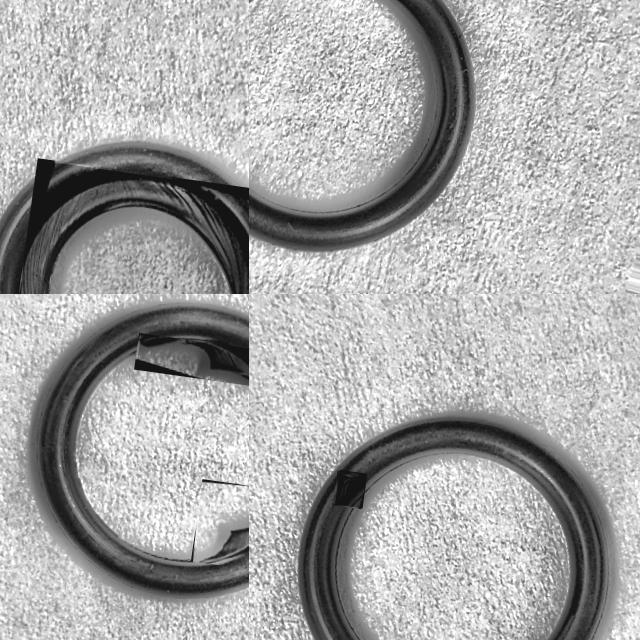切割缺陷: (336, 471, 366, 506)
裂纹: (20, 178, 249, 294), (140, 336, 249, 378), (196, 527, 249, 563)
